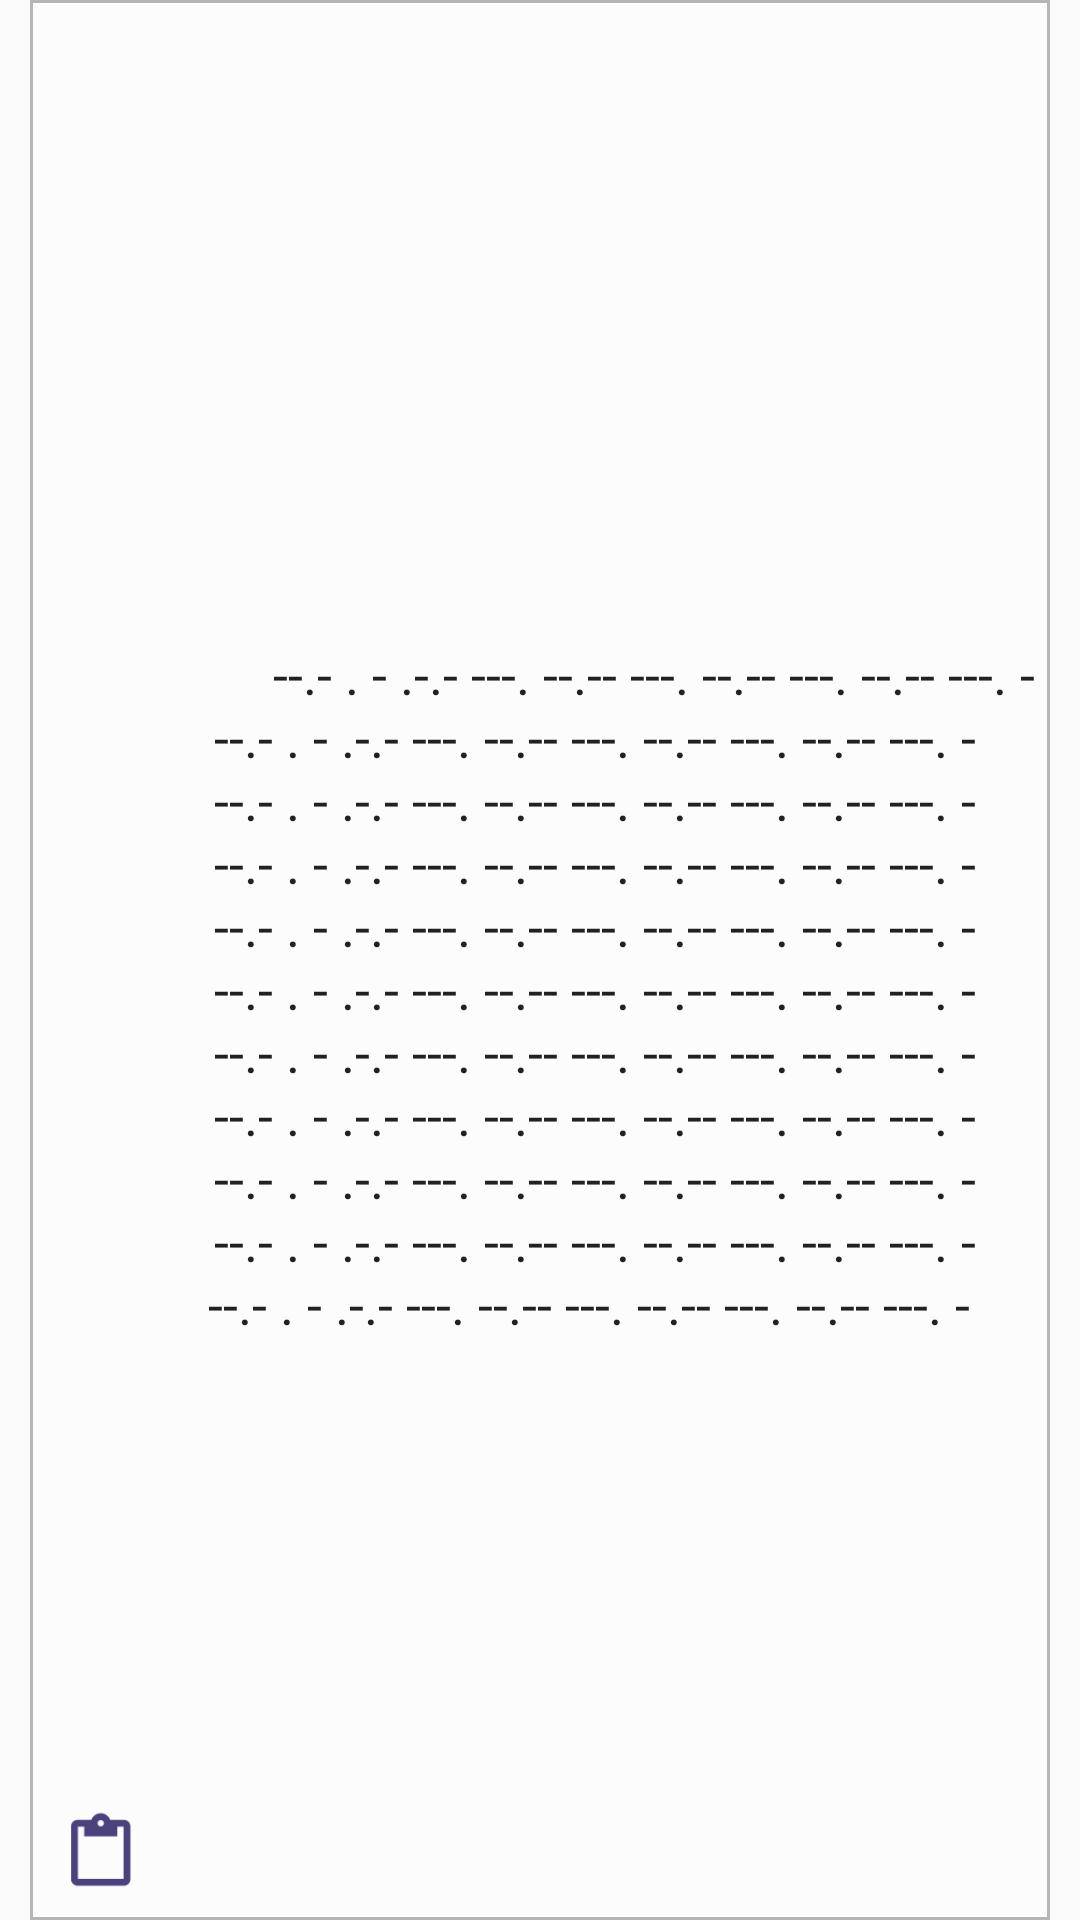

Screen size 1080×1920. Icon name, then its center in pixels as (x,y):
clipboard: (101,1849)
